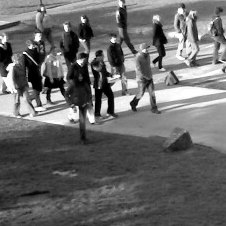person: (6, 53, 41, 118), (129, 43, 160, 114), (91, 49, 117, 123), (66, 72, 90, 145), (21, 39, 42, 112), (107, 33, 131, 96), (42, 46, 65, 105), (67, 52, 92, 102), (115, 1, 138, 54), (209, 7, 226, 65), (151, 14, 168, 71), (35, 4, 56, 47), (59, 21, 80, 62), (186, 8, 200, 68), (1, 32, 13, 95), (174, 2, 187, 60), (78, 14, 94, 53), (32, 29, 45, 62)
